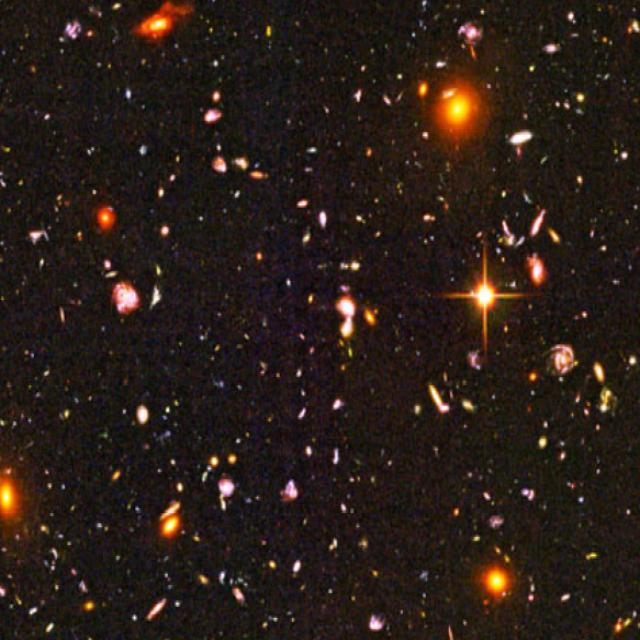galaxy: (429, 73, 494, 156), (1, 458, 35, 542), (135, 2, 194, 46), (474, 564, 517, 603), (547, 342, 580, 380), (111, 279, 141, 317), (160, 504, 186, 545), (523, 251, 551, 288), (95, 205, 121, 244), (499, 218, 525, 251), (217, 476, 239, 514), (597, 389, 623, 421), (458, 23, 489, 49), (428, 384, 452, 417), (61, 19, 86, 48), (530, 203, 548, 243), (51, 302, 74, 332), (279, 478, 301, 509), (148, 282, 167, 317), (157, 566, 178, 597), (349, 451, 374, 477), (81, 1, 106, 24), (509, 128, 535, 150), (146, 600, 168, 626), (204, 106, 226, 131), (586, 16, 601, 52), (337, 316, 357, 342), (492, 241, 512, 267), (27, 228, 54, 247), (153, 428, 176, 450), (133, 399, 151, 427), (335, 297, 359, 318), (396, 86, 415, 112), (17, 408, 35, 434), (248, 169, 273, 187), (230, 153, 252, 173), (314, 256, 334, 278), (330, 395, 352, 414), (595, 1, 621, 17), (505, 271, 521, 297), (590, 361, 607, 385), (520, 481, 537, 505), (210, 157, 229, 178), (363, 306, 382, 327), (546, 225, 565, 246), (199, 468, 218, 489), (467, 349, 481, 377), (228, 574, 254, 589), (231, 585, 247, 609), (195, 571, 213, 592), (468, 236, 482, 263), (333, 134, 349, 157), (621, 613, 640, 632), (157, 222, 175, 242), (84, 27, 101, 48), (162, 399, 179, 420), (417, 76, 430, 103), (359, 535, 374, 558), (136, 144, 154, 163), (462, 399, 482, 416), (369, 610, 386, 630), (486, 454, 499, 480), (206, 345, 219, 371), (521, 108, 535, 132), (389, 322, 404, 344), (210, 378, 229, 395), (260, 22, 274, 45), (330, 448, 344, 471), (329, 536, 343, 559), (574, 105, 588, 128), (154, 186, 170, 206), (54, 193, 74, 209), (210, 86, 225, 107), (196, 326, 209, 350), (431, 59, 453, 73), (443, 624, 462, 640), (336, 71, 351, 91), (214, 73, 229, 93), (97, 428, 114, 445), (542, 42, 560, 58), (489, 514, 505, 532), (42, 556, 58, 574), (406, 25, 422, 43), (336, 498, 349, 520), (22, 344, 35, 366), (298, 406, 313, 425), (158, 551, 173, 570), (469, 529, 483, 549), (501, 313, 512, 338), (521, 190, 537, 207), (196, 11, 212, 28), (80, 598, 98, 613), (151, 262, 165, 281), (351, 214, 370, 228), (1, 140, 15, 159), (73, 229, 87, 248), (229, 28, 243, 47), (612, 615, 623, 639), (318, 211, 331, 231), (626, 353, 639, 373), (256, 360, 269, 380), (293, 560, 306, 580), (55, 410, 68, 430), (59, 379, 72, 399), (457, 375, 470, 395), (401, 614, 414, 634), (591, 466, 606, 483), (323, 583, 338, 600), (216, 567, 227, 590), (302, 145, 320, 159), (260, 312, 272, 333), (458, 256, 472, 274), (611, 273, 624, 292), (587, 225, 600, 244), (79, 580, 92, 599), (103, 345, 116, 364), (584, 549, 600, 564), (350, 522, 366, 537), (36, 595, 50, 612), (353, 88, 366, 106), (560, 590, 573, 608), (536, 436, 549, 454), (583, 395, 596, 413), (527, 61, 540, 79), (62, 371, 75, 389), (430, 10, 443, 28), (348, 176, 361, 194), (406, 153, 416, 176), (30, 104, 42, 123), (512, 146, 527, 161), (105, 1, 121, 15), (480, 487, 494, 503), (381, 92, 394, 109), (436, 191, 449, 208), (556, 452, 569, 469), (92, 518, 105, 535), (285, 608, 298, 625), (298, 513, 311, 530), (630, 14, 640, 36), (485, 80, 496, 100), (630, 86, 640, 108), (565, 7, 575, 28), (419, 238, 433, 253), (101, 321, 112, 340), (34, 254, 47, 270), (492, 542, 505, 558), (1, 169, 9, 195), (301, 231, 314, 247), (193, 532, 206, 548), (47, 547, 63, 560), (24, 21, 32, 47), (321, 42, 334, 58), (259, 433, 275, 446), (484, 594, 493, 617), (298, 329, 310, 346), (264, 410, 276, 427), (347, 346, 358, 364), (527, 575, 538, 593), (260, 620, 274, 634), (437, 369, 452, 382), (296, 197, 311, 210), (295, 581, 310, 594), (15, 40, 28, 55), (206, 27, 221, 40), (509, 473, 522, 488), (540, 414, 552, 430), (308, 345, 320, 361), (442, 201, 453, 218), (553, 99, 564, 116), (228, 452, 239, 469), (113, 470, 124, 487), (235, 382, 246, 399), (42, 112, 55, 126), (350, 260, 363, 274), (423, 213, 436, 227), (495, 68, 509, 81), (68, 567, 81, 581), (39, 524, 52, 538), (528, 369, 538, 387), (566, 473, 576, 491), (208, 455, 220, 470), (122, 374, 134, 389), (98, 599, 110, 614), (536, 26, 551, 38), (65, 409, 76, 425), (285, 276, 296, 292), (297, 367, 308, 383), (413, 403, 424, 419), (241, 428, 252, 444), (302, 165, 318, 176), (490, 428, 501, 444), (575, 171, 584, 190), (422, 126, 431, 145), (416, 16, 425, 35), (167, 172, 177, 189), (1, 234, 11, 251), (321, 104, 334, 117), (253, 251, 266, 264), (267, 560, 280, 573), (85, 144, 97, 158), (555, 438, 567, 452), (412, 161, 426, 173), (431, 446, 443, 460), (72, 393, 83, 408), (338, 358, 349, 373), (420, 569, 431, 584), (444, 274, 459, 285), (29, 60, 38, 78), (102, 269, 120, 278), (601, 593, 611, 609), (626, 259, 636, 275), (294, 58, 306, 71), (568, 35, 581, 47), (573, 391, 584, 405), (583, 408, 594, 422), (139, 55, 150, 69), (177, 483, 188, 497), (271, 613, 282, 627), (74, 296, 85, 310), (540, 499, 549, 516), (306, 444, 315, 461), (16, 594, 25, 611), (504, 484, 513, 501), (85, 390, 95, 405), (566, 405, 576, 420), (121, 407, 131, 422), (413, 118, 425, 130), (42, 362, 51, 378), (365, 147, 376, 160), (50, 206, 63, 217), (242, 331, 253, 344), (237, 340, 248, 353), (236, 262, 247, 275), (413, 348, 424, 361), (408, 333, 419, 346), (490, 391, 501, 404), (213, 309, 226, 320), (124, 84, 131, 104), (613, 146, 620, 166), (451, 505, 461, 519), (34, 390, 44, 404), (1, 414, 8, 434), (396, 174, 405, 189), (525, 402, 534, 417), (262, 595, 271, 610), (1, 343, 10, 358), (430, 232, 439, 247), (306, 294, 318, 305), (578, 308, 589, 320), (539, 156, 550, 168), (15, 178, 27, 189), (6, 572, 17, 584), (443, 2, 454, 14), (295, 21, 306, 33), (371, 197, 382, 209), (419, 607, 429, 620), (318, 76, 331, 86), (356, 112, 366, 125), (340, 261, 348, 277), (567, 264, 575, 280), (467, 469, 476, 483), (1, 48, 10, 62), (53, 142, 62, 156), (233, 190, 244, 201), (623, 217, 633, 229), (126, 496, 134, 511), (399, 602, 407, 617), (175, 600, 185, 612), (5, 380, 15, 392), (219, 50, 226, 67), (596, 456, 605, 469), (175, 154, 184, 167), (478, 6, 487, 19), (397, 310, 406, 323), (505, 552, 513, 566), (578, 434, 586, 448), (3, 204, 11, 218), (379, 165, 387, 179), (101, 259, 112, 269), (528, 388, 538, 399), (104, 64, 114, 75), (68, 506, 79, 516), (13, 287, 24, 297), (114, 555, 125, 565), (367, 47, 378, 57), (631, 202, 640, 214), (418, 1, 430, 10), (394, 344, 403, 356), (579, 494, 586, 509), (578, 92, 586, 105), (372, 475, 380, 488), (387, 457, 395, 470), (47, 622, 55, 635), (32, 608, 40, 621), (122, 568, 135, 576), (65, 539, 73, 552), (374, 230, 383, 241), (595, 424, 604, 435), (500, 188, 509, 199), (359, 64, 370, 73), (253, 495, 264, 504), (57, 530, 66, 541), (1, 290, 8, 304), (198, 213, 204, 229), (12, 51, 18, 67), (61, 480, 69, 492), (300, 388, 309, 398), (15, 197, 24, 207), (222, 293, 232, 302), (580, 572, 588, 583), (603, 73, 611, 84), (169, 457, 177, 468), (102, 527, 113, 535), (54, 583, 62, 594), (1, 545, 9, 556), (73, 283, 81, 294), (174, 399, 181, 411), (424, 588, 430, 602), (348, 472, 354, 486), (395, 75, 404, 84), (55, 84, 64, 93), (92, 189, 101, 198), (391, 132, 396, 148), (261, 539, 269, 549), (132, 613, 140, 623), (528, 594, 535, 605), (601, 243, 608, 254), (413, 152, 424, 159), (41, 468, 52, 475), (1, 588, 8, 599), (1, 254, 6, 269), (284, 118, 292, 127), (565, 102, 573, 111), (623, 152, 630, 162), (211, 60, 216, 74), (48, 482, 53, 496), (349, 595, 355, 606), (59, 153, 67, 161), (608, 38, 613, 50), (275, 371, 282, 379), (627, 507, 632, 518), (601, 35, 607, 44), (216, 343, 221, 353), (627, 26, 631, 38), (358, 474, 362, 486), (398, 190, 403, 199), (180, 342, 185, 351), (93, 61, 100, 67), (375, 571, 381, 578), (136, 508, 140, 514)
star: (438, 238, 534, 356)
